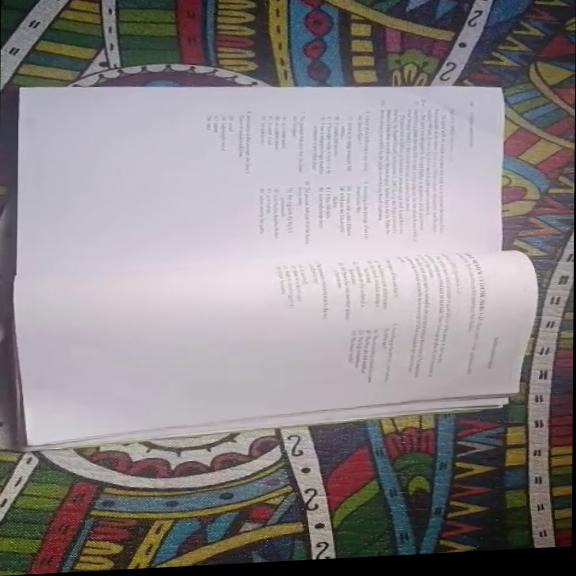Kertas: (13, 90, 503, 307), (3, 246, 510, 429)
